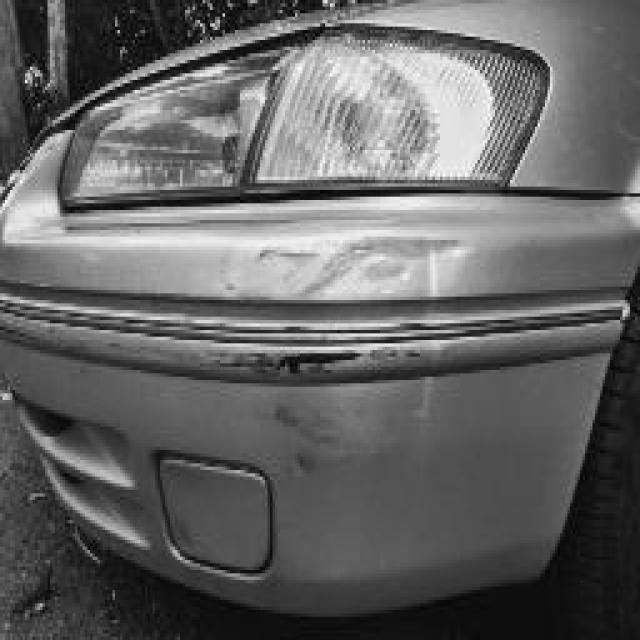Bumper: (12, 217, 588, 607)
